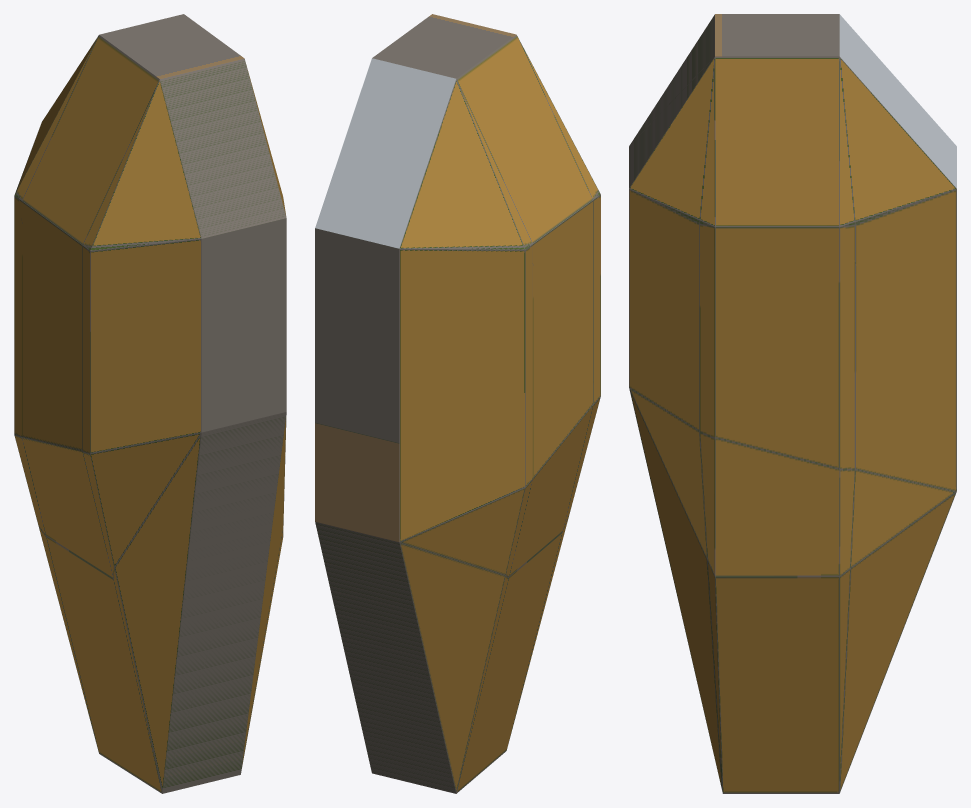
Rendered from LLeagAbove.fbx.
3 views of the same model, side by side, from view 1: azimuth 30°, elevation 25°; view 2: azimuth 150°, elevation 25°; view 3: azimuth 270°, elevation 25° (orthographic). The views are drawn at different scales.
Visible parts, largest first — view 1: Shape_IndexedFaceSet.008; view 2: Shape_IndexedFaceSet.008, Shape_IndexedFaceSet.007; view 3: Shape_IndexedFaceSet.008, Shape_IndexedFaceSet.007.
Part boxes in pixels (bbox=[...]): Shape_IndexedFaceSet.008: bbox=[14, 14, 286, 793]; Shape_IndexedFaceSet.008: bbox=[315, 14, 600, 793]; Shape_IndexedFaceSet.007: bbox=[315, 58, 455, 248]; Shape_IndexedFaceSet.008: bbox=[629, 14, 956, 793]; Shape_IndexedFaceSet.007: bbox=[839, 14, 956, 188].
Bounding box in the file's own units: 0.1272 × 0.4361 × 0.1757.
